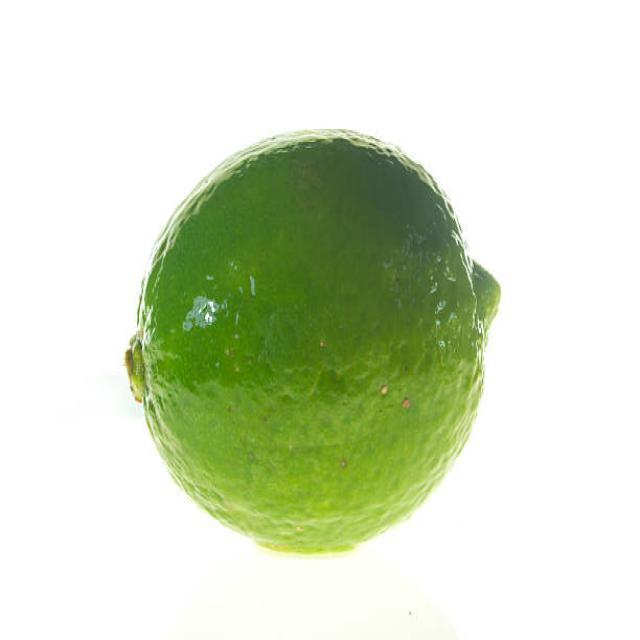Unripe: (134, 127, 501, 556)
